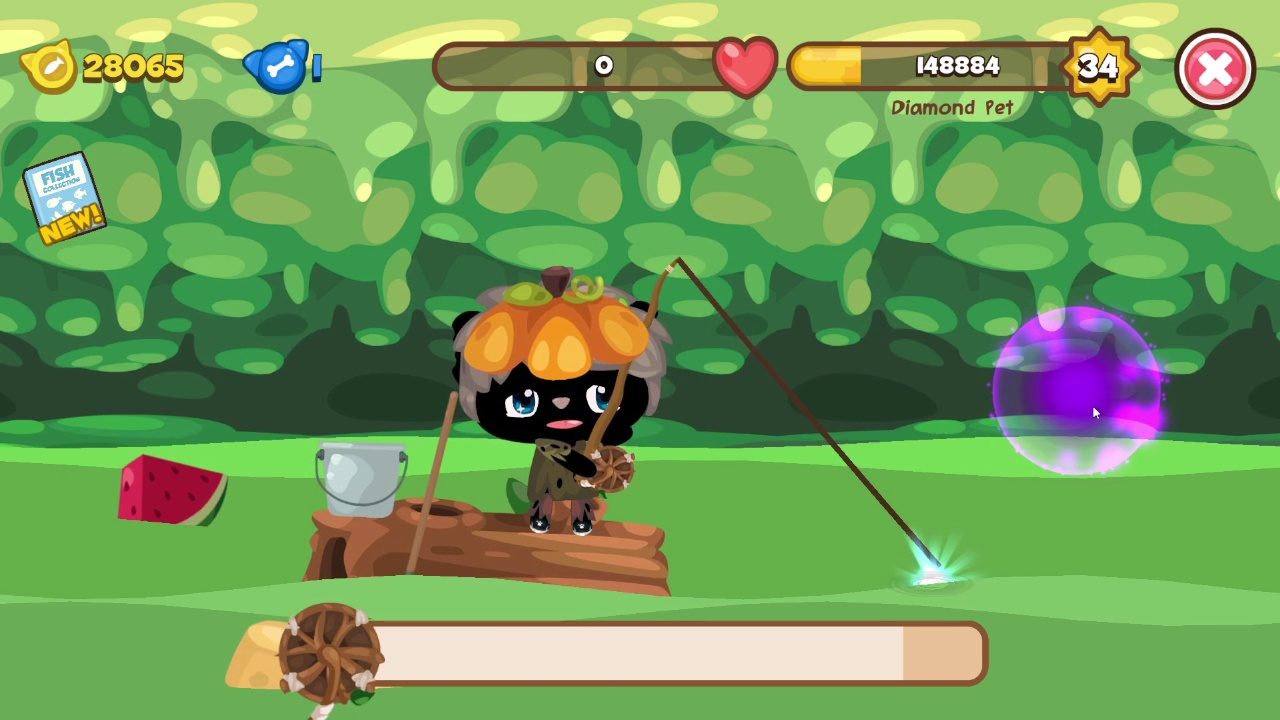point: (990, 305, 1166, 477)
